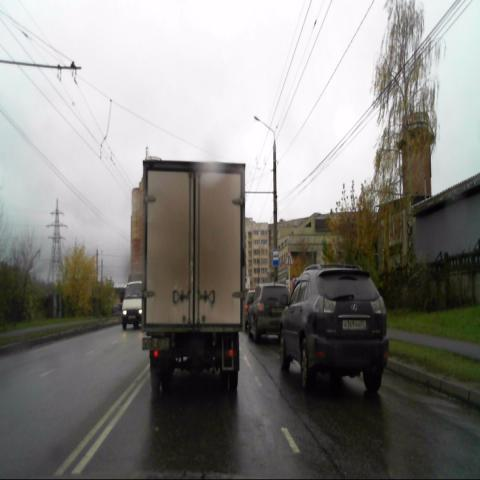1_20_2: (284, 248, 294, 266)
